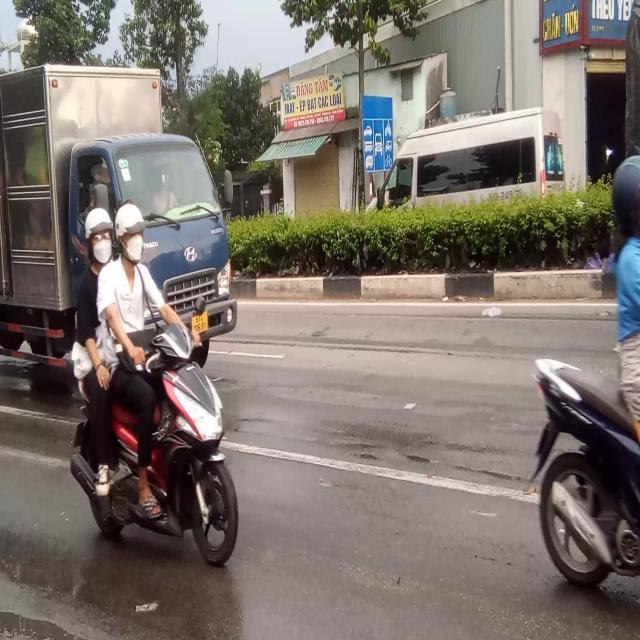bien_vang: (190, 307, 212, 333)
